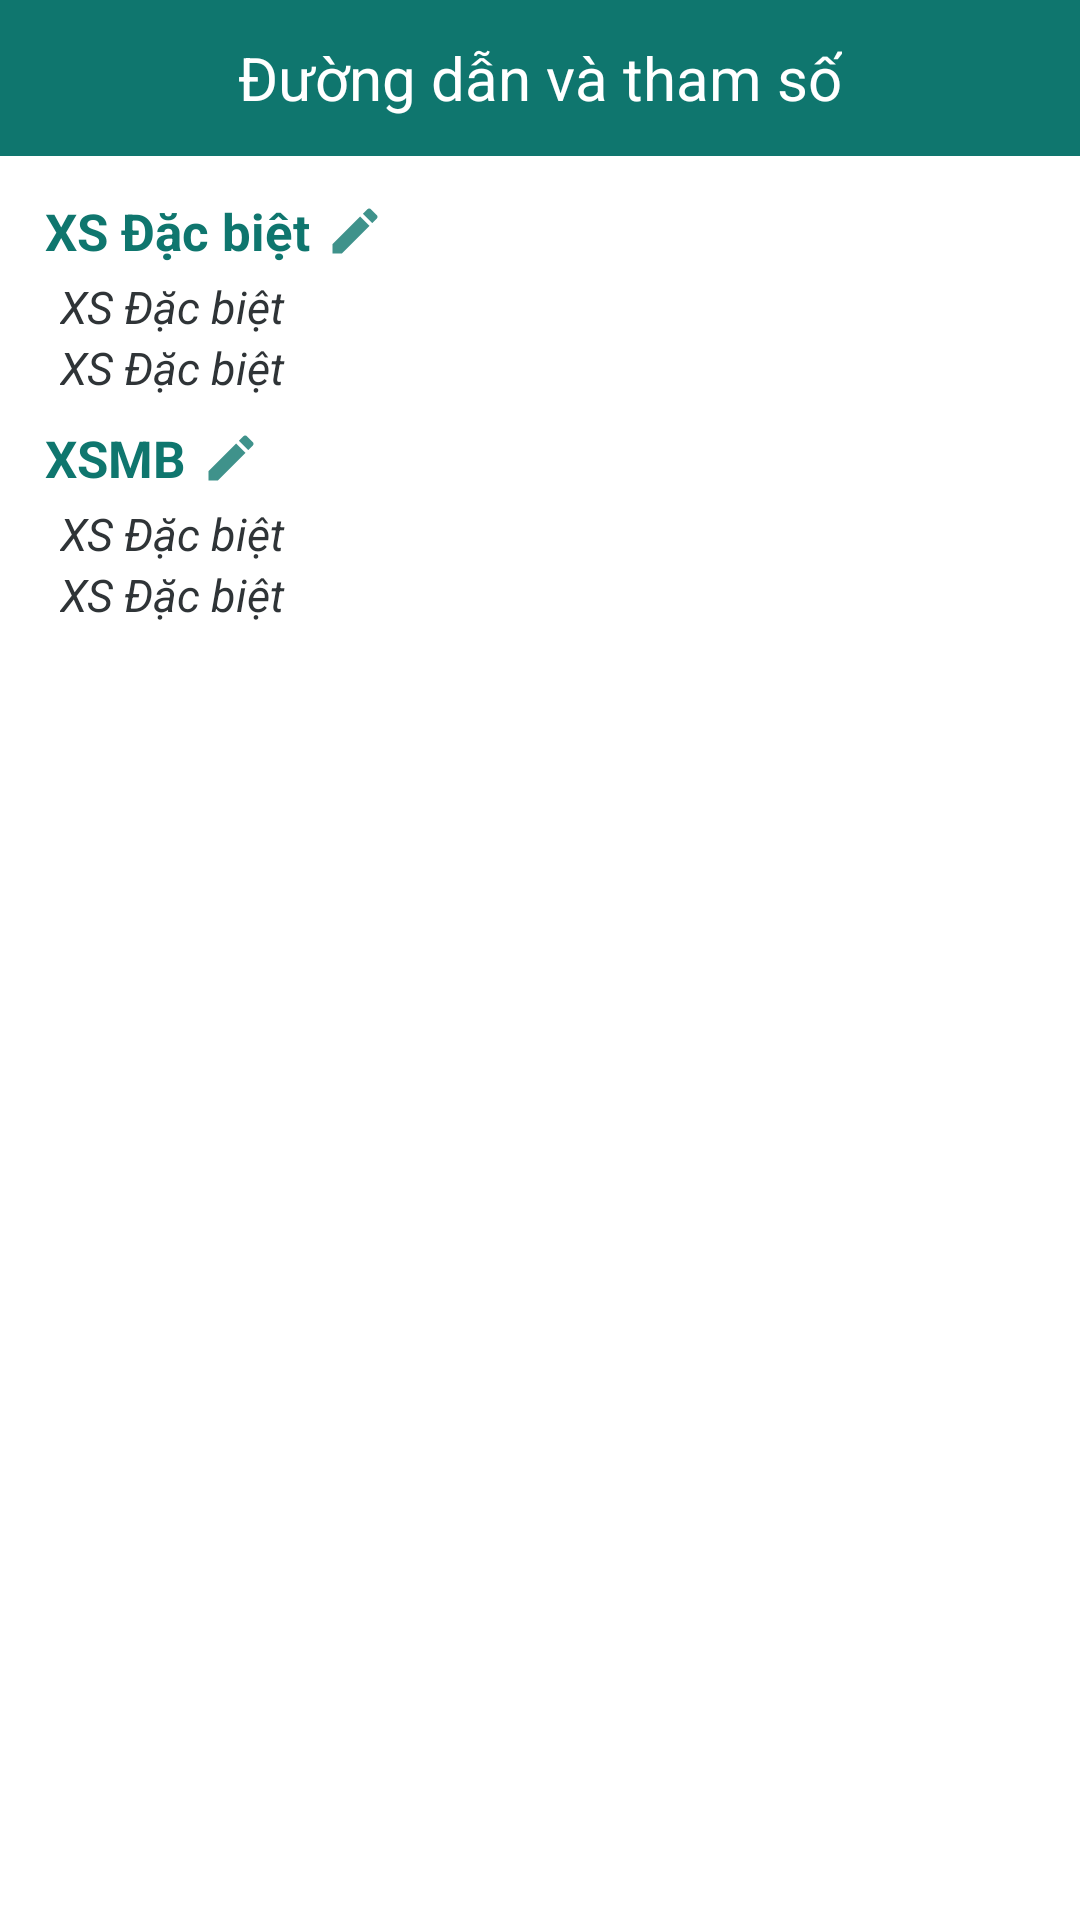

Icons on this 1080 x 1920 Android screen, each with the point to tap as (x=x, y=y):
edit: (x=355, y=231), (x=231, y=458)
